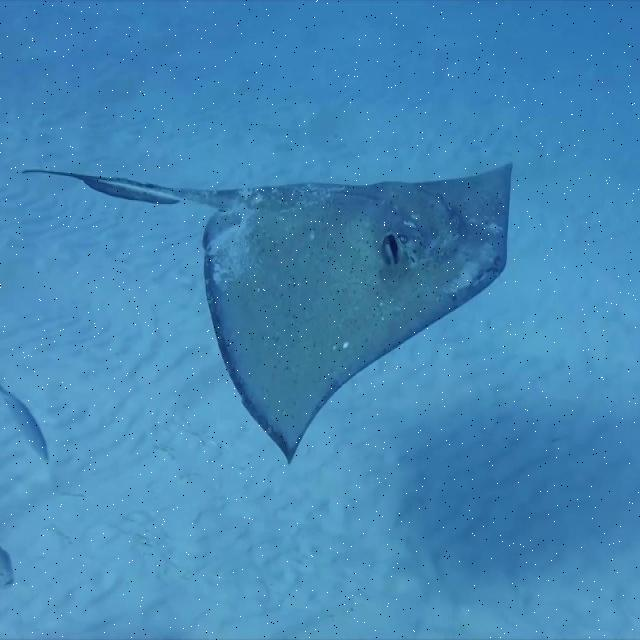fish: (23, 160, 513, 461)
